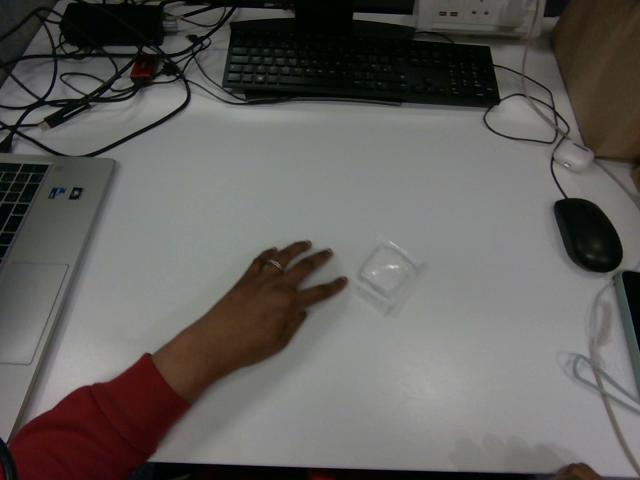gauze: (356, 240, 423, 315)
